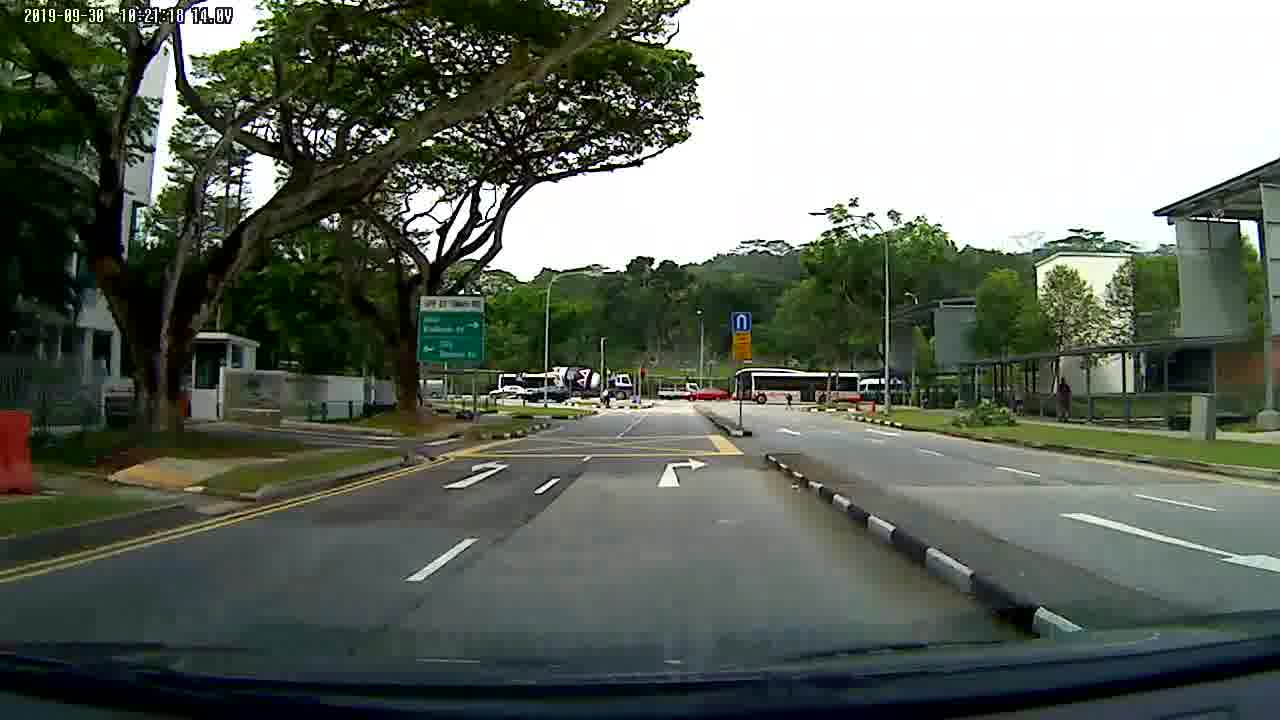bus: (730, 365, 861, 408)
car: (681, 383, 729, 404)
